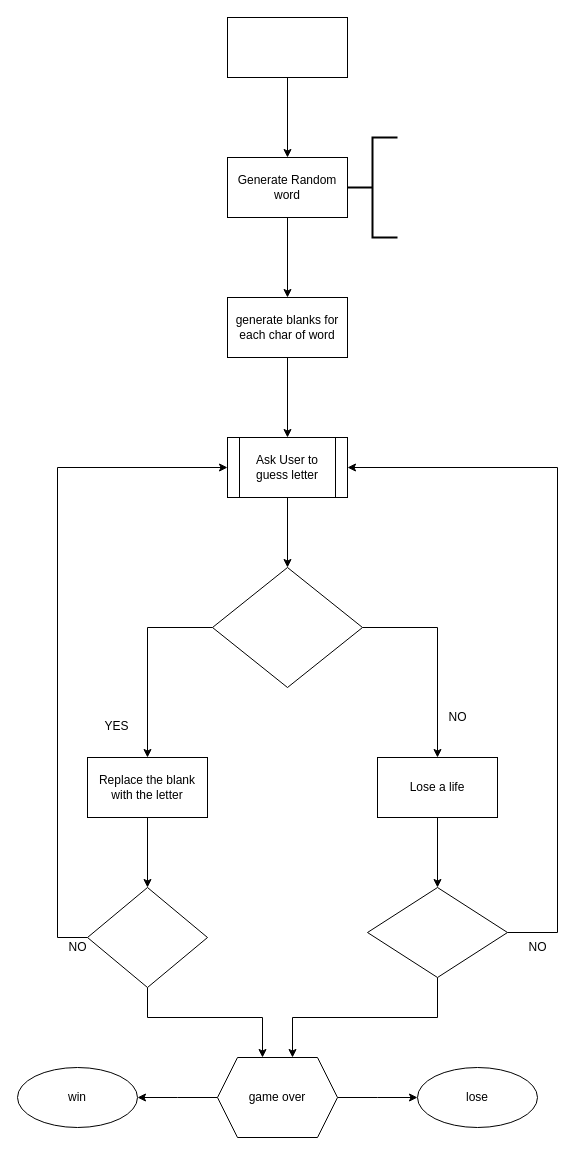
Some shapes in this 583 by 1155 pixel diagram are drawn without their labels. Here are the shapes that lost their labels. From the top down, the box of each, then its label:
(226, 16, 348, 78): start: welcome
(212, 566, 362, 688): is guessed char in string?
(86, 886, 208, 988): are all blanks filled?
(366, 886, 508, 978): Have they run out of lives?
